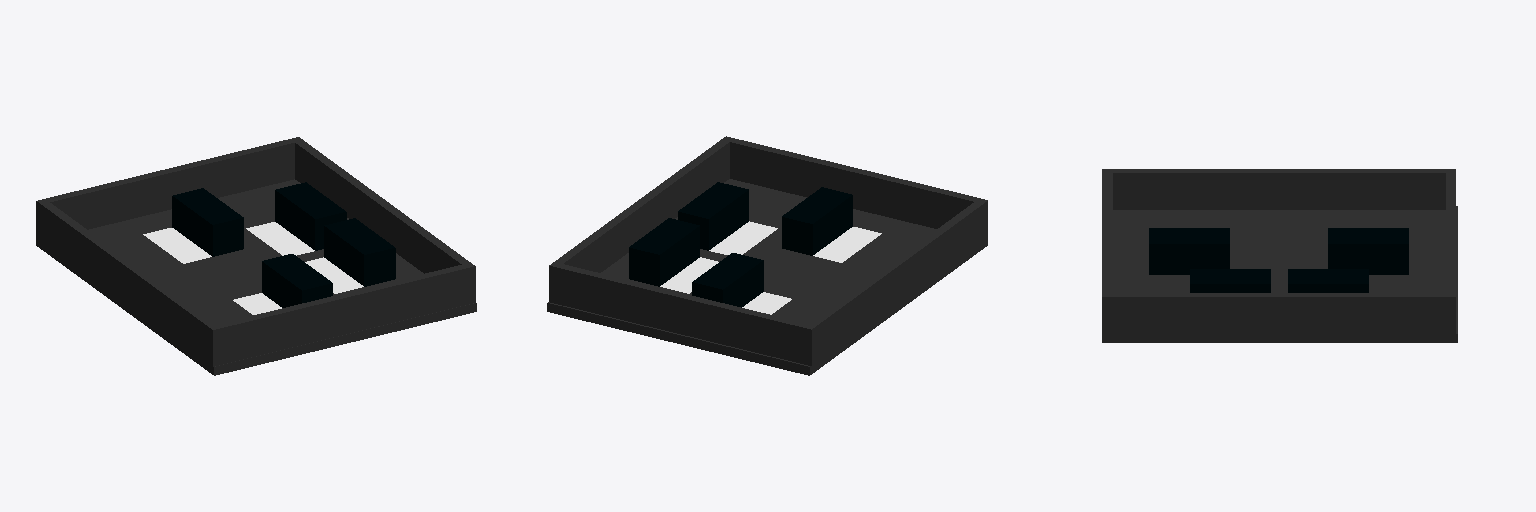
File: Basic_Demo_Layout_OBJ.obj
The picture shows the model from 3 angles: view 1: azimuth 30°, elevation 25°; view 2: azimuth 150°, elevation 25°; view 3: azimuth 270°, elevation 25°; orthographic projection.
Visible parts, largest first — view 1: default; view 2: default; view 3: default.
Boxes of the visible parts, x1,y1,x2,y2 form: default: [36, 137, 476, 375]; default: [547, 136, 987, 375]; default: [1102, 169, 1457, 342].
Size of the model in its own units: 30.1 by 5 by 35.25.